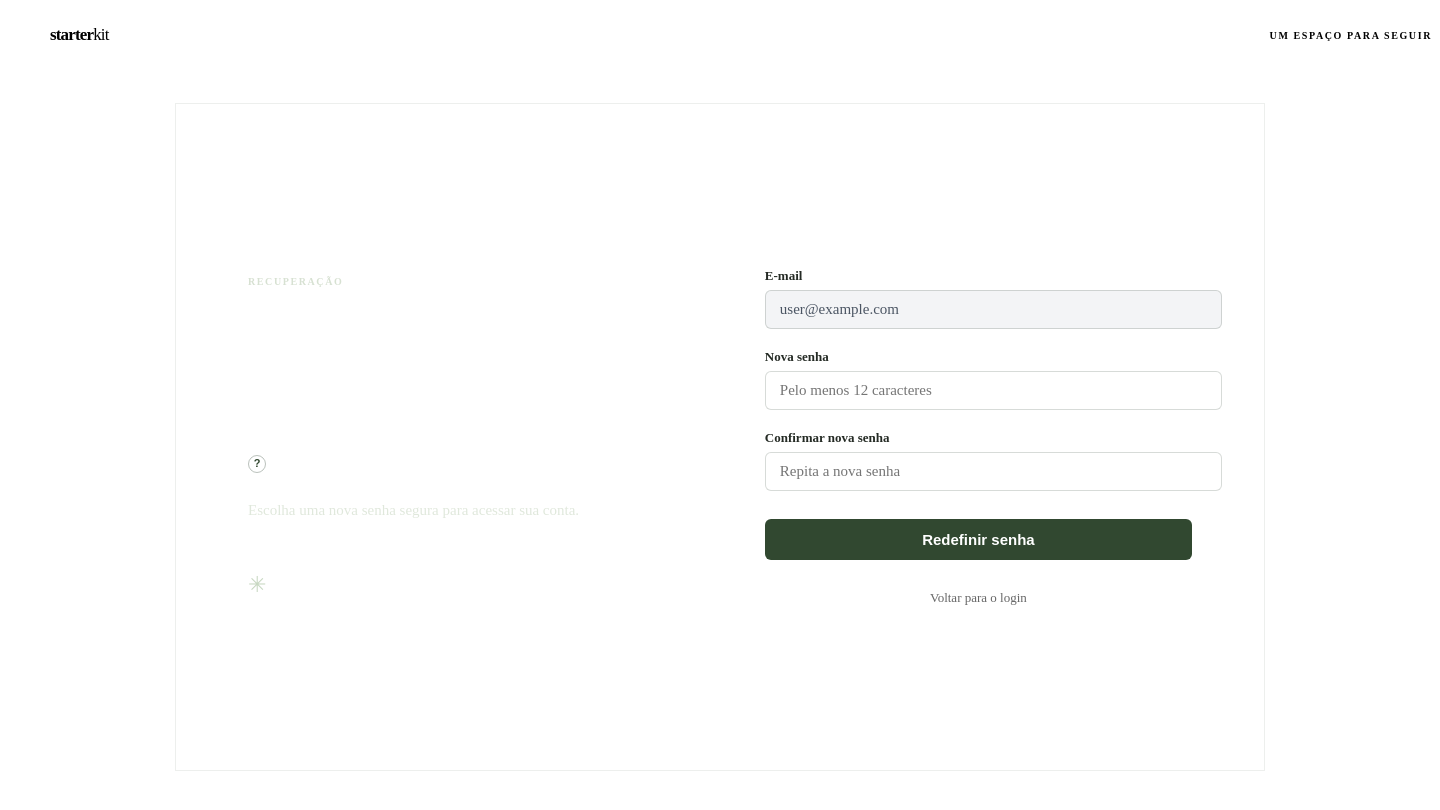
it: ResetPasswordPage.vue › displays validation error on invalid/expired token 422
Type "newPassword12345" into the password field with id "reset-password" at (993, 390), box [765,370,1222,410]
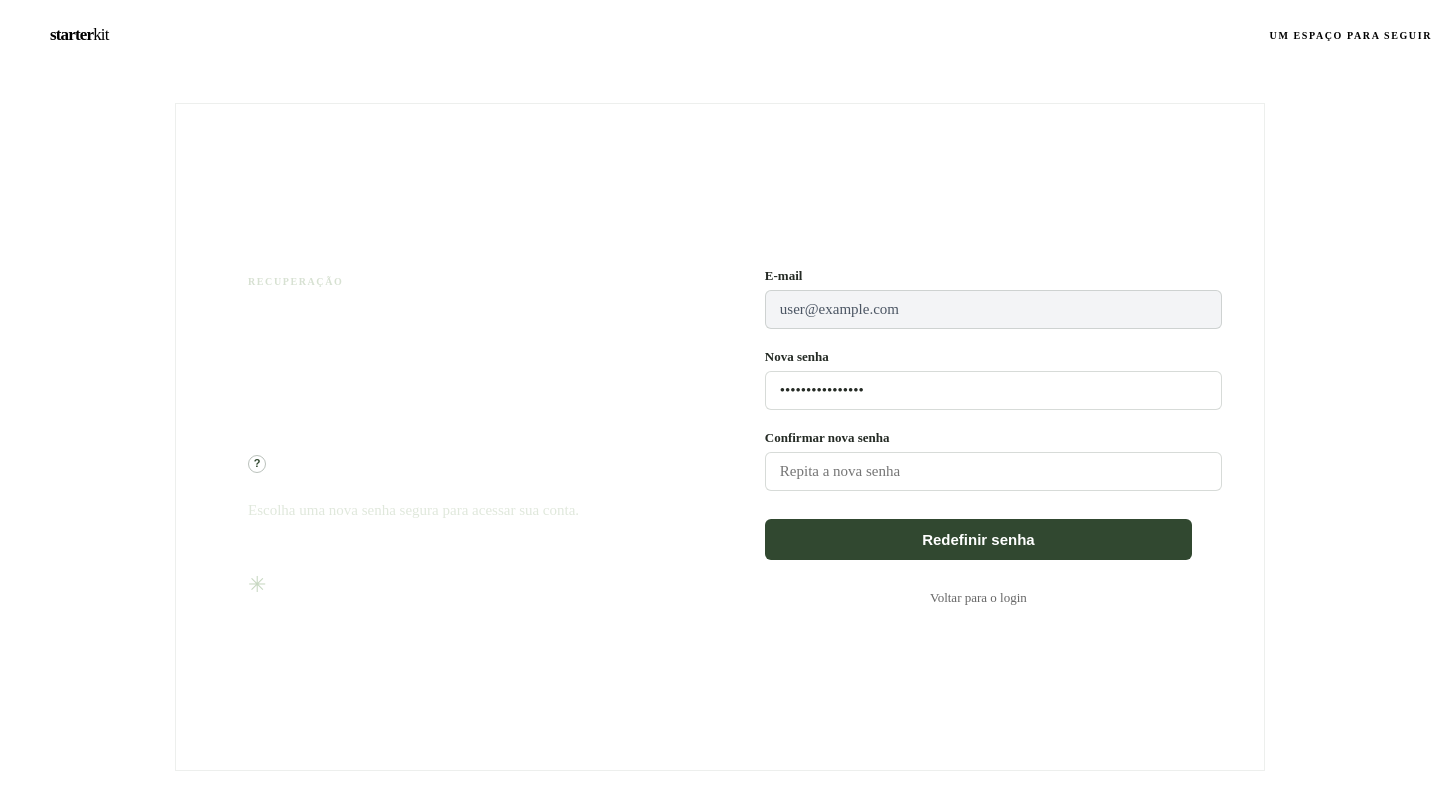
Type "newPassword12345" into the password field with id "reset-password-confirmation" at (993, 471), box [765,452,1222,490]
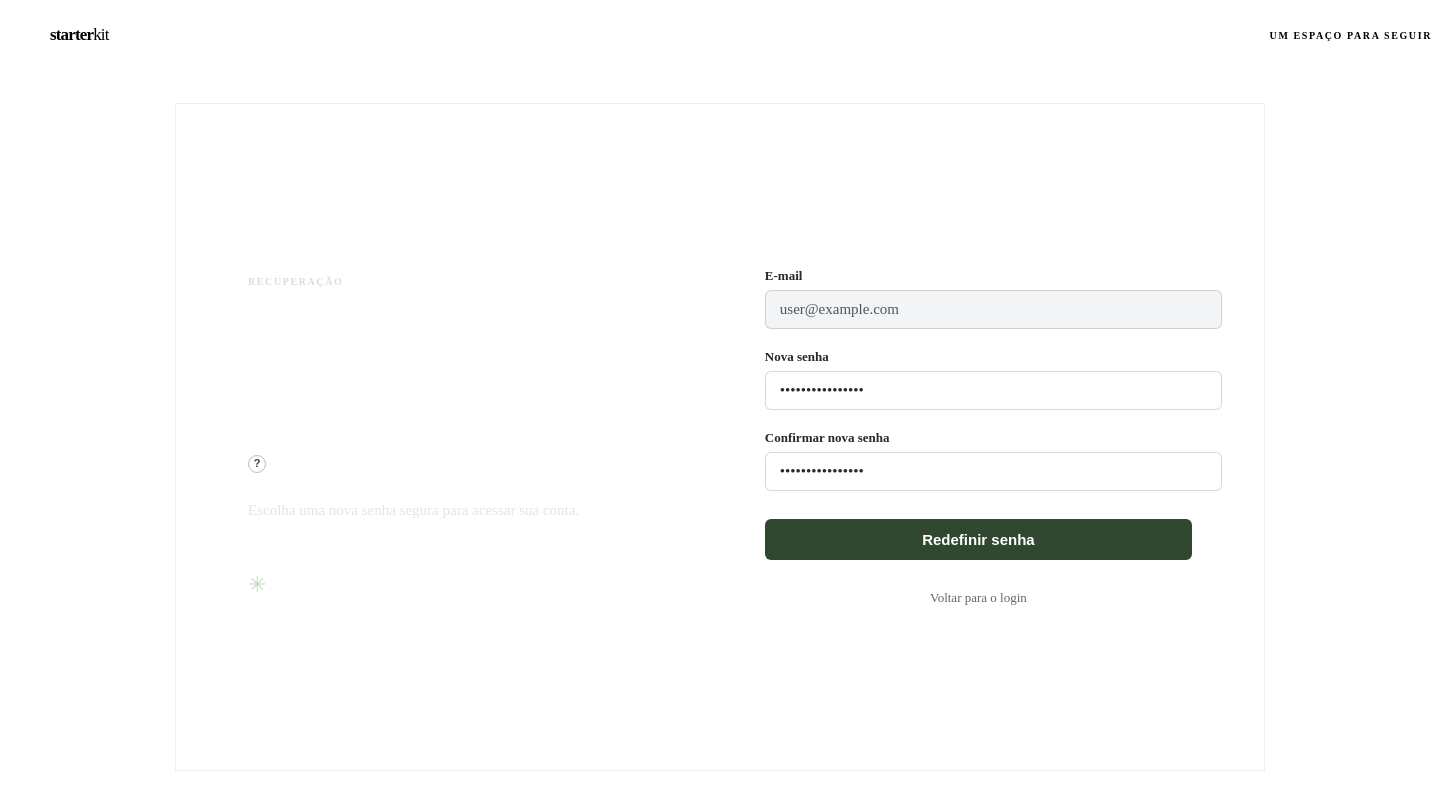
Submit the form, box [765,268,1192,606]
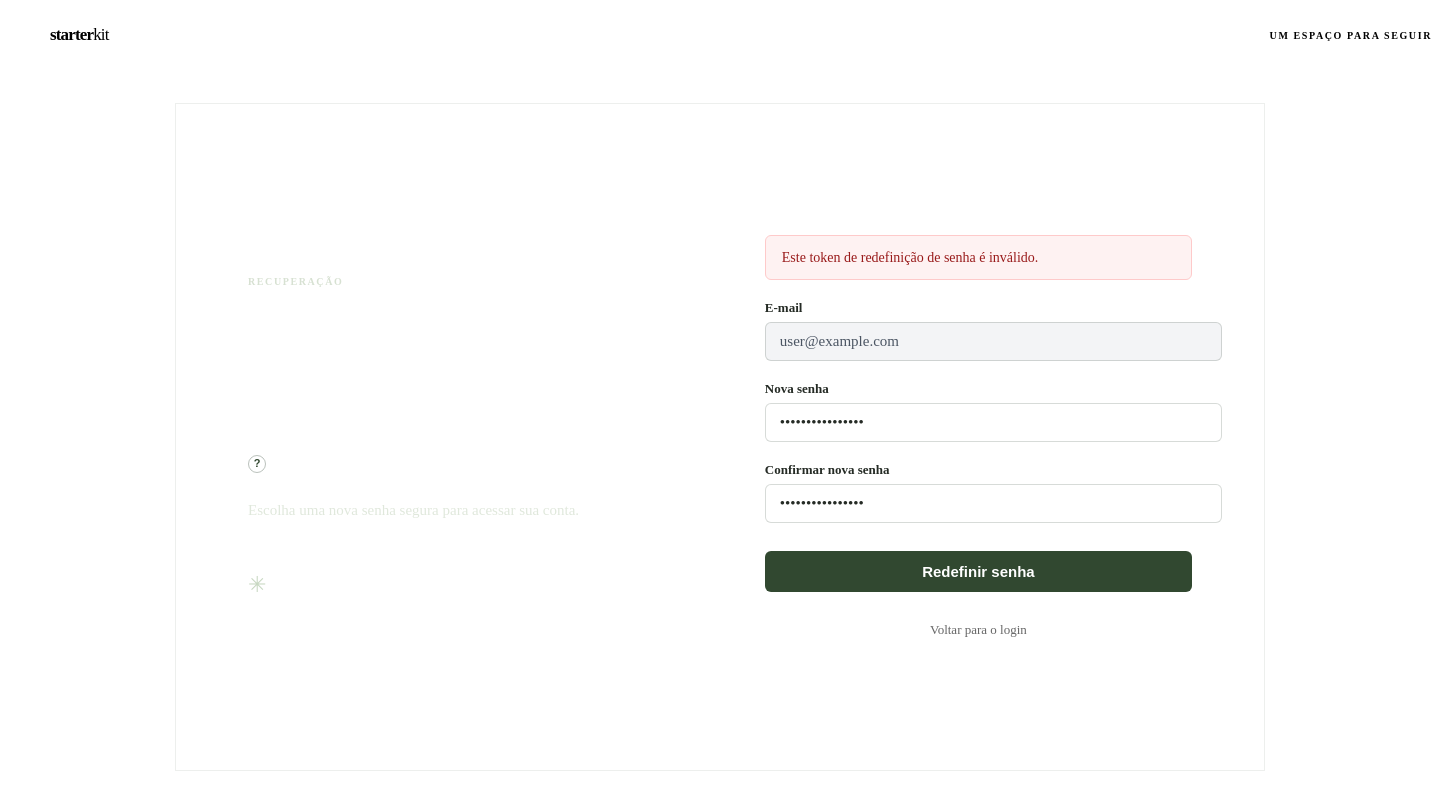
Expected: the message "Este token de redefinição de senha é inválido." is shown, [765,235,1192,280]
